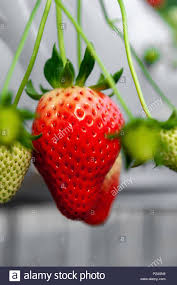ripe: (30, 83, 119, 219), (69, 156, 118, 234)
unripe: (2, 145, 33, 211), (122, 119, 160, 167), (153, 110, 177, 173), (1, 102, 20, 152)
